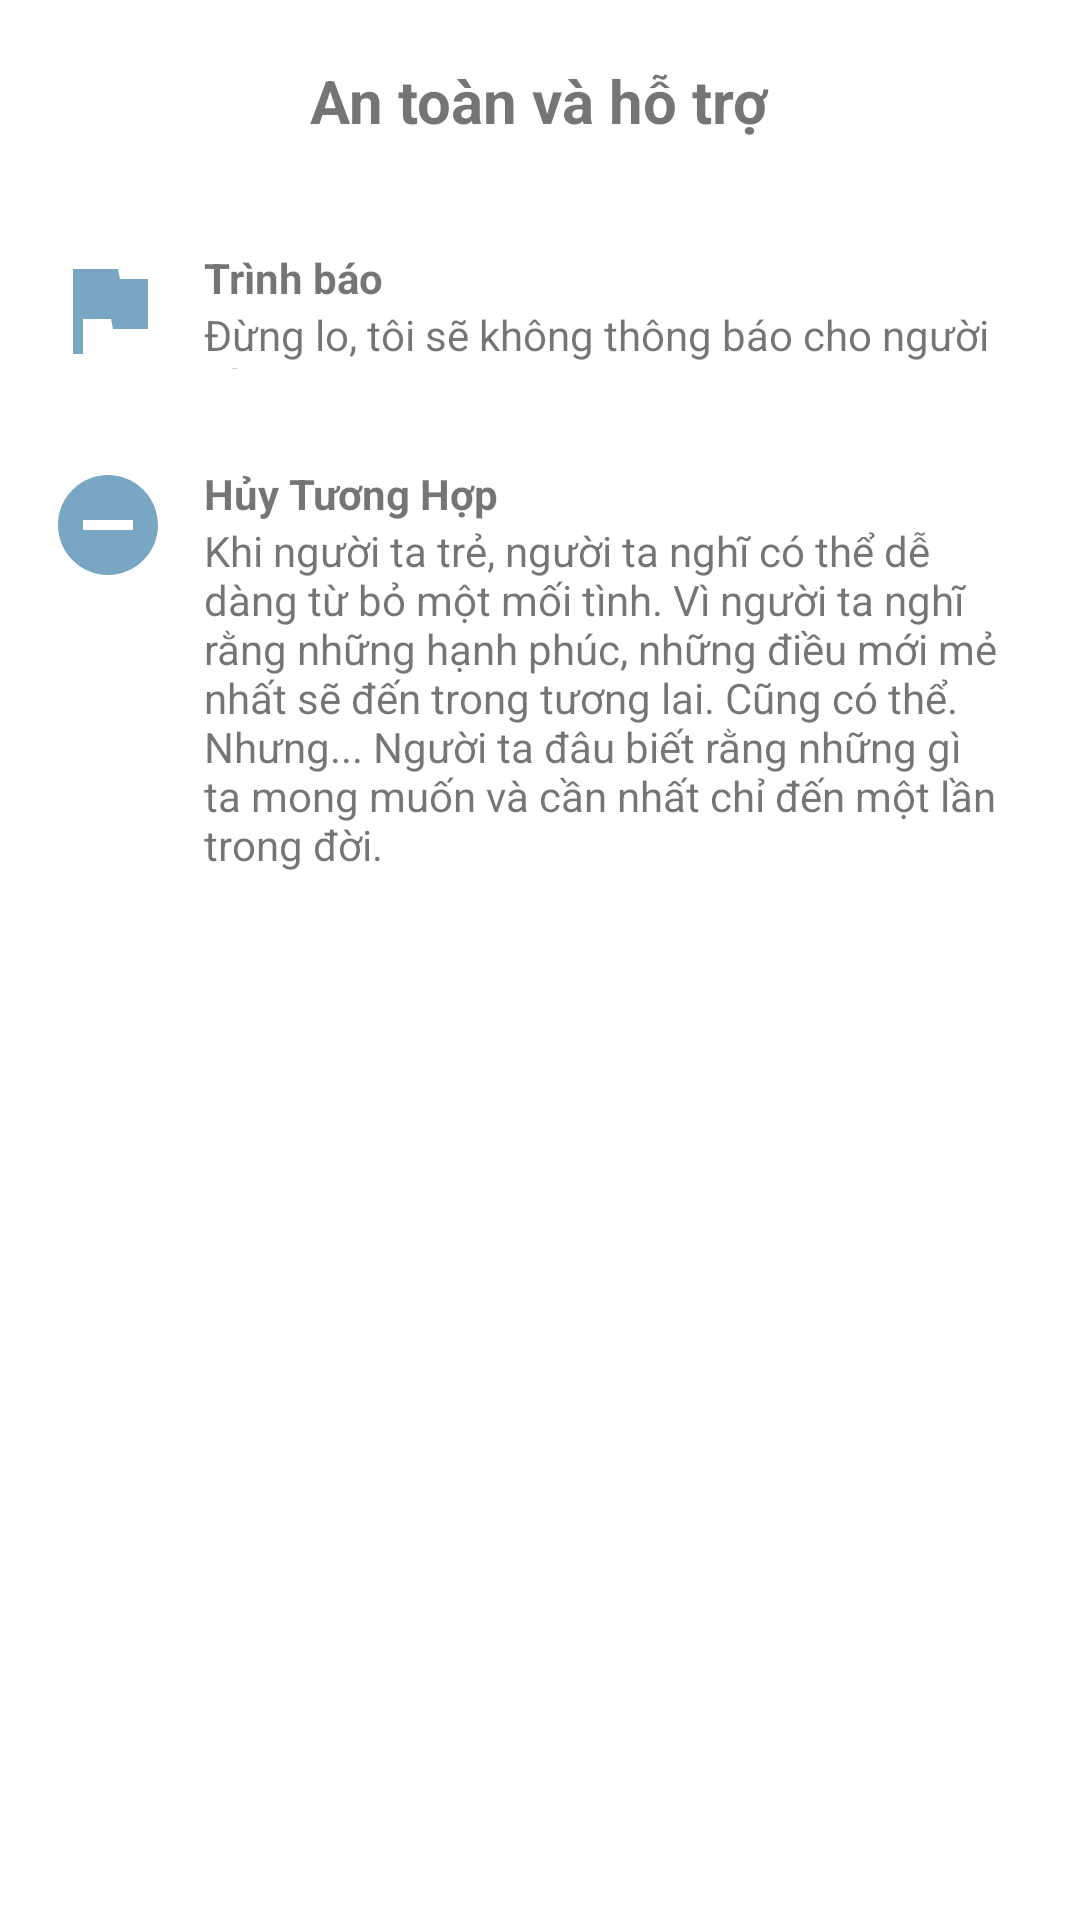

Locate icon controls on the screen. Image size 1080x1920, boxes as (x1, y1, x2, y2).
flag: (73, 269, 148, 354)
remove circle: (58, 475, 158, 575)
